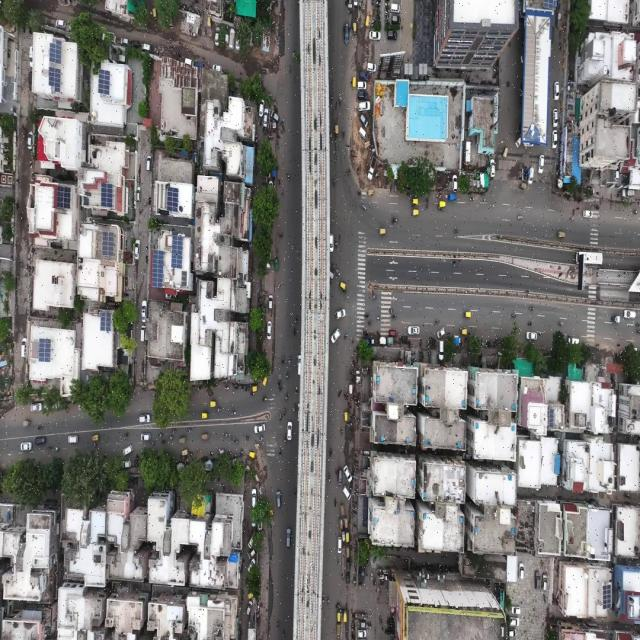3W: (462, 307, 476, 324), (437, 197, 447, 212), (247, 449, 258, 462), (201, 431, 211, 445), (176, 435, 187, 447), (201, 408, 211, 420), (411, 207, 421, 219), (334, 619, 341, 636), (502, 146, 509, 163), (259, 375, 268, 388), (344, 528, 350, 547), (558, 227, 565, 243), (349, 73, 356, 89), (411, 196, 421, 207), (343, 406, 349, 424), (339, 502, 345, 520), (20, 418, 32, 427), (518, 182, 527, 194), (335, 610, 342, 625), (210, 397, 218, 410), (459, 325, 468, 336), (338, 280, 346, 292), (252, 383, 259, 396), (351, 22, 358, 35), (345, 573, 351, 588), (364, 16, 371, 28), (345, 562, 351, 575), (378, 227, 386, 236), (91, 433, 100, 441), (344, 517, 349, 531), (345, 547, 350, 560), (344, 610, 348, 624)
Cars: (274, 482, 284, 512), (406, 317, 420, 338), (17, 334, 27, 363), (25, 43, 35, 70), (538, 151, 548, 177), (329, 325, 341, 346), (568, 332, 582, 349), (67, 428, 80, 446), (624, 306, 637, 324), (525, 164, 535, 187), (141, 40, 154, 57), (135, 234, 142, 264), (284, 527, 293, 550), (245, 556, 257, 573), (489, 153, 495, 187), (141, 296, 148, 325), (343, 18, 350, 47), (552, 76, 560, 101), (297, 349, 303, 382), (19, 439, 33, 453), (534, 566, 541, 594), (356, 87, 369, 102), (135, 412, 151, 424), (267, 292, 275, 315), (55, 14, 68, 28), (344, 464, 354, 482), (386, 326, 401, 338), (368, 31, 383, 43), (27, 129, 34, 154), (33, 433, 46, 446), (437, 339, 445, 360), (268, 111, 280, 125), (229, 27, 236, 51), (357, 101, 372, 112), (583, 206, 594, 221), (121, 443, 134, 455), (254, 422, 267, 434), (336, 307, 348, 320), (542, 570, 548, 596), (386, 29, 399, 41), (212, 62, 225, 74), (526, 328, 537, 342), (262, 104, 268, 129), (215, 22, 221, 47), (31, 403, 43, 415), (120, 458, 132, 470), (286, 417, 292, 441), (356, 628, 368, 640), (509, 616, 520, 629), (357, 70, 370, 81), (337, 530, 342, 558), (367, 60, 377, 74), (266, 319, 272, 342), (337, 465, 343, 488), (519, 559, 525, 582), (28, 70, 34, 93), (242, 600, 251, 615), (343, 486, 352, 501), (360, 112, 369, 127), (509, 626, 519, 639), (273, 253, 279, 274), (251, 484, 257, 505), (552, 132, 559, 150), (137, 184, 143, 205), (329, 231, 335, 251), (391, 13, 401, 25), (258, 99, 264, 119), (145, 154, 151, 174), (391, 2, 400, 15), (358, 79, 367, 92), (359, 128, 368, 141), (552, 108, 558, 127), (131, 38, 142, 48), (139, 324, 145, 342), (139, 432, 151, 441), (247, 548, 256, 560), (512, 604, 521, 616), (194, 60, 205, 69), (452, 175, 458, 191), (183, 58, 195, 66), (359, 619, 369, 628), (516, 136, 522, 151), (438, 327, 446, 338), (120, 38, 131, 46), (247, 538, 255, 547)
LCV: (609, 311, 622, 326), (367, 156, 374, 178), (449, 194, 458, 203)
M2W: (354, 184, 364, 202), (289, 399, 297, 416), (148, 436, 157, 451), (469, 188, 476, 207), (284, 369, 291, 387), (276, 441, 283, 459), (370, 291, 379, 305), (185, 427, 195, 439), (331, 492, 337, 512), (374, 312, 384, 324), (345, 165, 352, 182), (282, 391, 291, 404), (451, 224, 460, 237), (293, 485, 299, 504), (329, 444, 336, 460), (363, 309, 371, 323), (275, 616, 281, 634), (327, 470, 333, 488), (342, 325, 348, 343), (326, 593, 332, 610), (286, 57, 292, 74), (322, 591, 327, 611), (354, 161, 359, 181), (509, 311, 518, 322), (294, 383, 300, 399), (387, 305, 395, 317), (286, 164, 291, 183), (392, 310, 399, 323), (282, 406, 288, 421), (235, 434, 241, 449), (281, 625, 287, 640), (527, 315, 533, 330), (361, 200, 367, 215), (291, 46, 297, 61), (37, 421, 45, 432), (244, 430, 252, 441), (168, 426, 180, 433), (530, 301, 536, 315), (342, 127, 348, 141), (51, 443, 60, 452), (557, 317, 565, 327), (338, 95, 343, 111), (334, 264, 340, 277), (217, 406, 224, 417), (274, 376, 281, 387), (155, 431, 164, 439), (278, 410, 284, 422), (224, 430, 230, 442), (259, 432, 265, 444), (335, 599, 341, 611), (516, 212, 525, 220), (225, 384, 231, 395), (280, 357, 286, 368), (286, 353, 292, 364), (238, 447, 244, 458), (338, 424, 343, 437), (92, 440, 99, 449), (160, 438, 167, 447), (343, 392, 350, 401), (293, 325, 297, 340), (231, 432, 236, 444), (47, 446, 54, 454), (124, 431, 130, 440), (262, 396, 268, 405), (334, 177, 338, 190), (369, 317, 373, 329), (169, 436, 175, 443), (231, 410, 237, 417), (295, 314, 298, 325)
